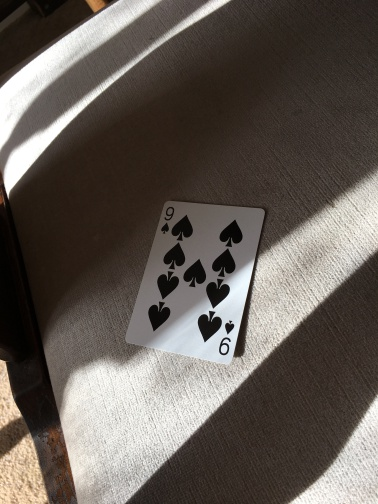nine: (126, 200, 265, 365)
